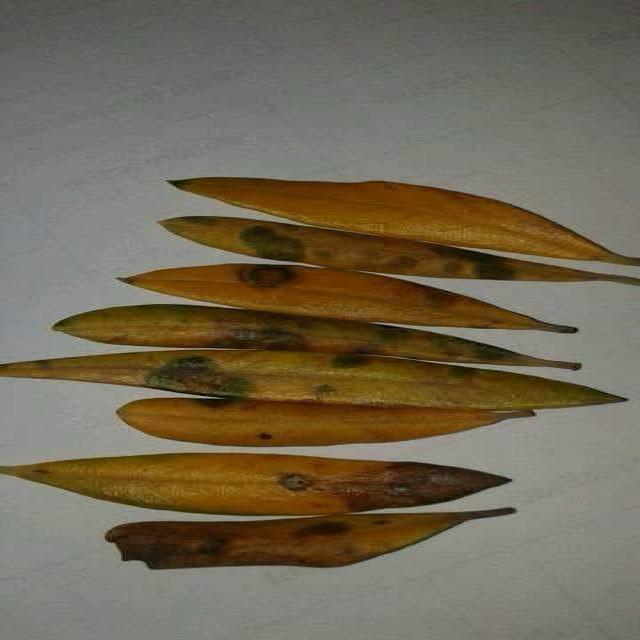OlivePeacockSpot: (171, 177, 638, 265), (2, 351, 624, 411), (53, 304, 580, 366), (160, 218, 638, 284), (0, 453, 485, 515), (122, 264, 558, 326), (105, 512, 505, 569), (117, 398, 534, 446)
